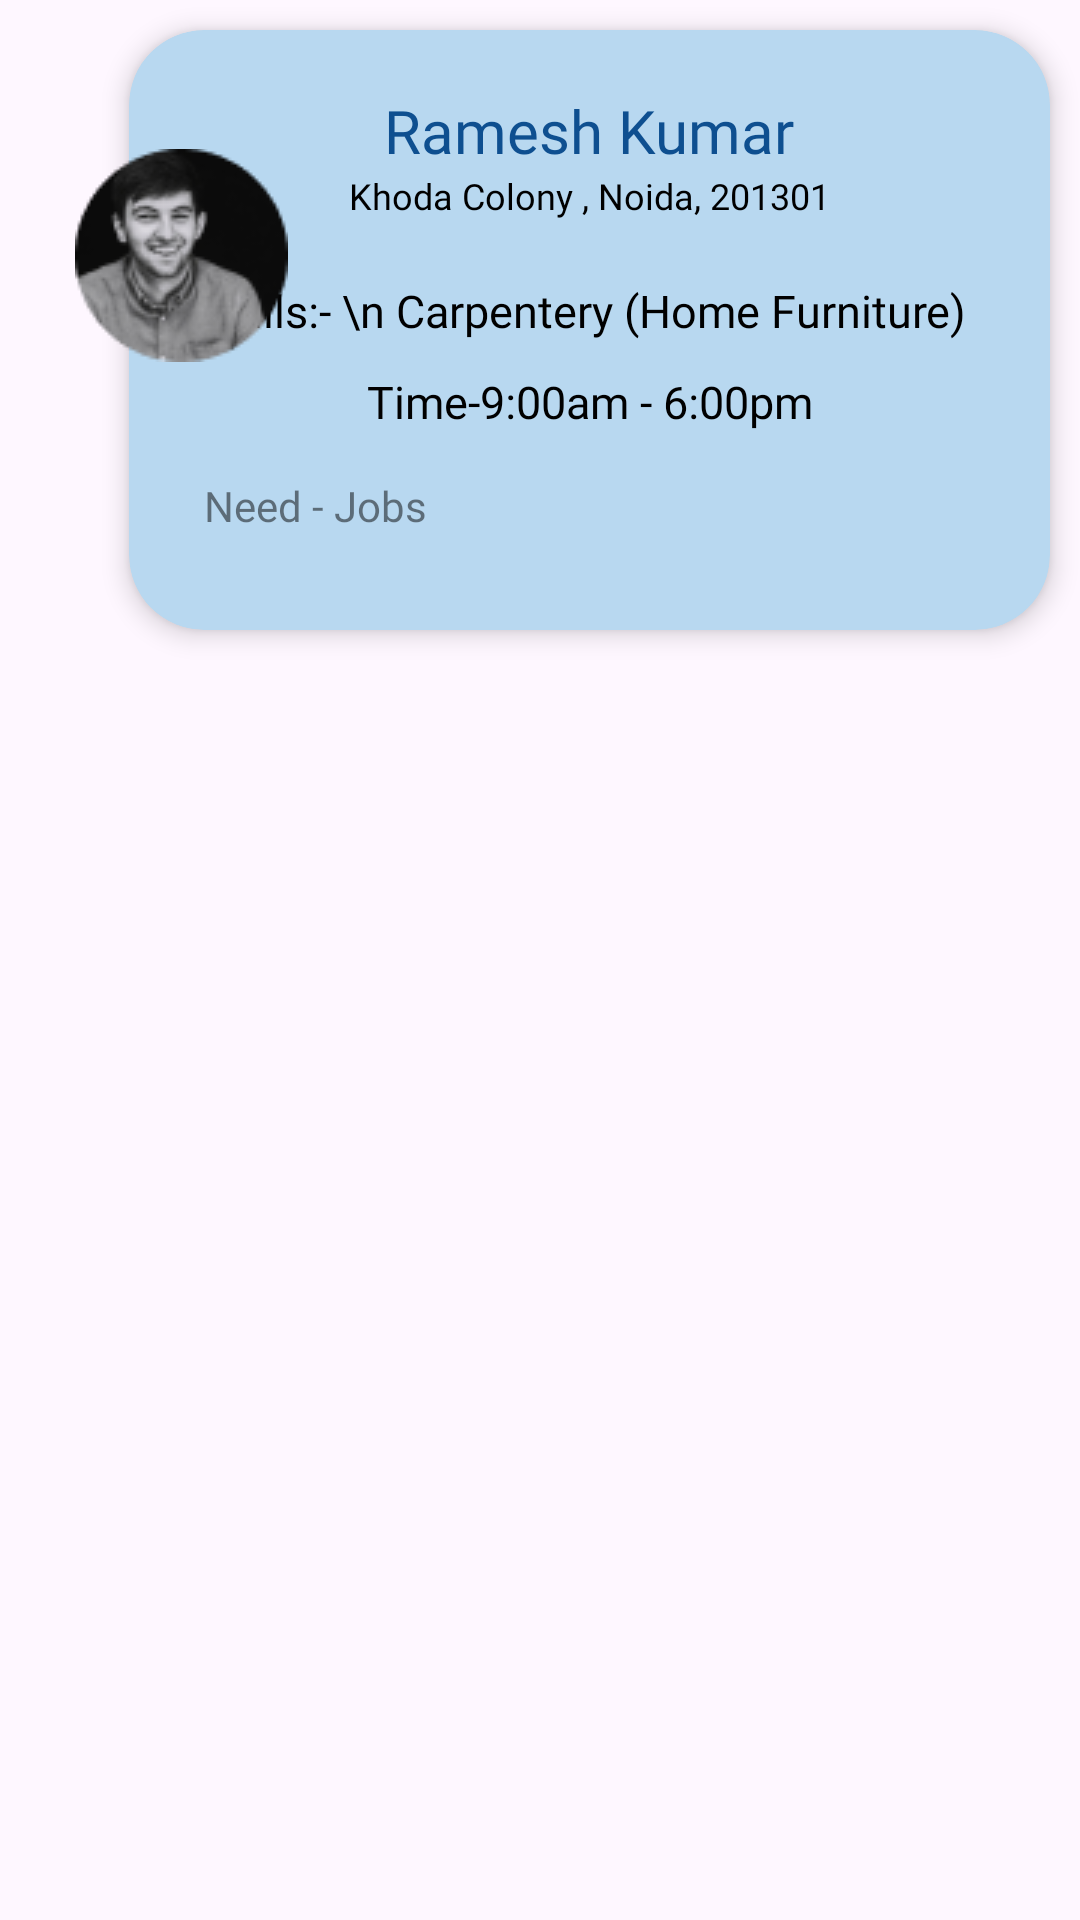

Icon bounding boxes for this 1080px x 1920px phone screenshot, format bbox=[x1, y1, x2, y2]:
gigphoto: bbox=[75, 149, 288, 362]
